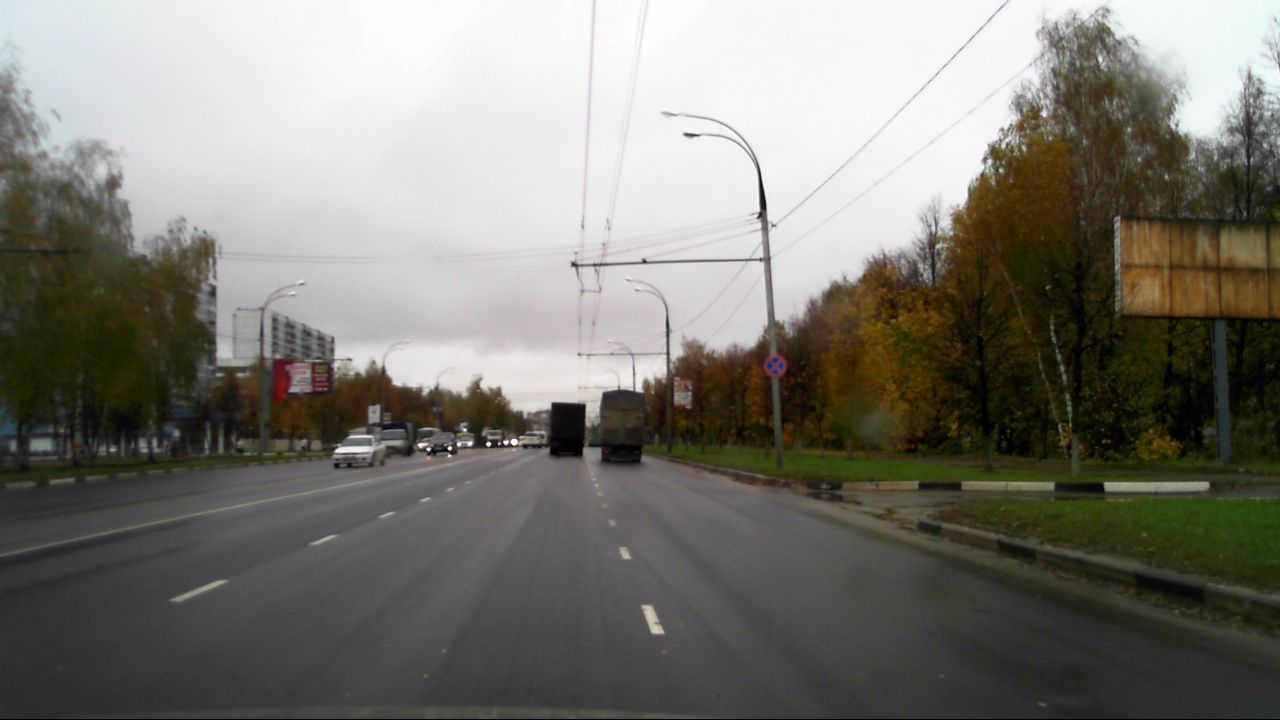No Parking: (762, 354, 787, 379)
